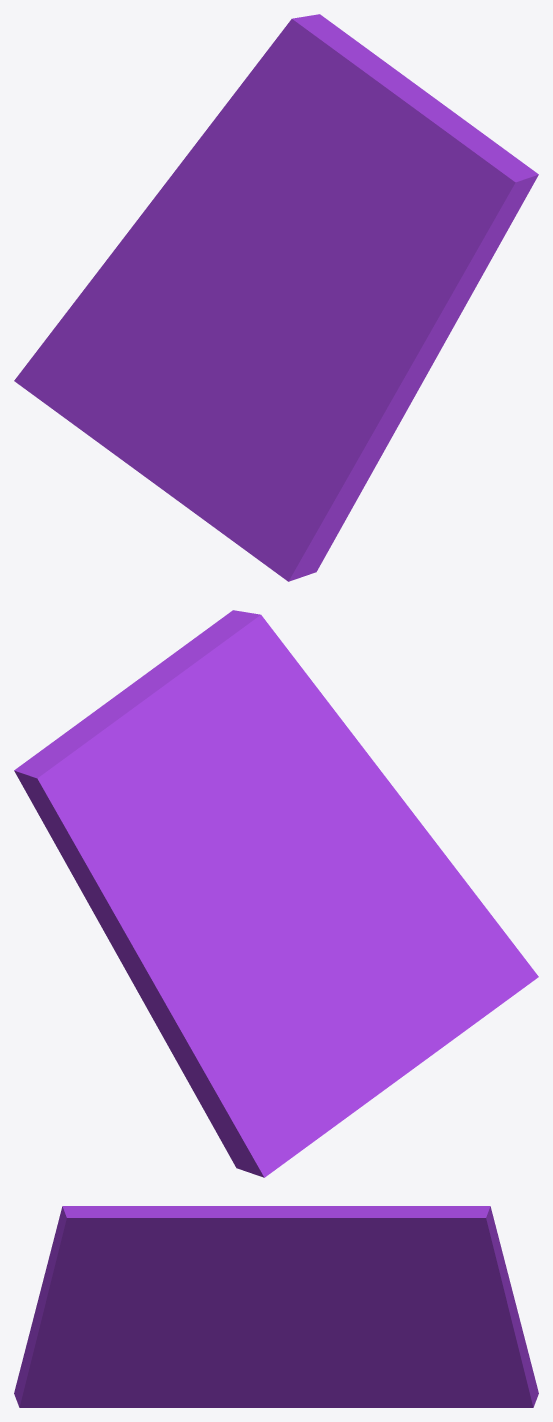
File: Window_61.fbx
The picture shows the model from 3 angles, top to bottom: view 1: azimuth 30°, elevation 25°; view 2: azimuth 150°, elevation 25°; view 3: azimuth 270°, elevation 25°; orthographic projection. The views are drawn at different scales.
Visible parts, largest first — view 1: Window_61; view 2: Window_61; view 3: Window_61.
Boxes of the visible parts, x1,y1,x2,y2 form: Window_61: (14, 14, 538, 581); Window_61: (14, 610, 538, 1177); Window_61: (14, 1206, 538, 1407).
Size of the model in its own units: 756 by 829 by 1292.
